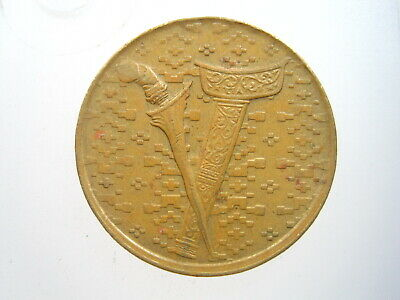1r: (72, 15, 340, 279)
